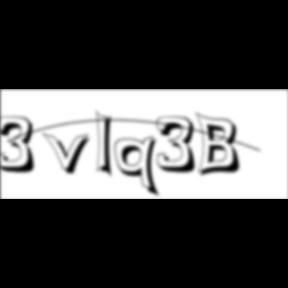3: (157, 116, 203, 176), (0, 116, 42, 176)
B: (196, 111, 246, 179)
l: (96, 108, 120, 182)
q: (114, 135, 164, 200)
v: (43, 131, 97, 177)
